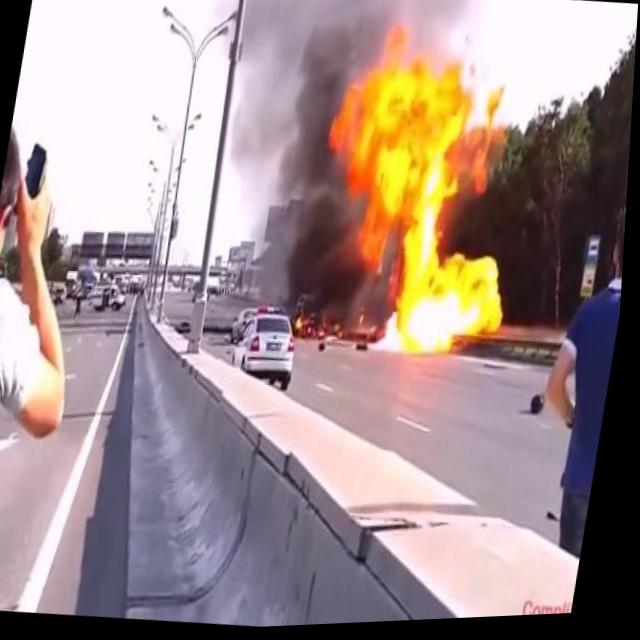fire: (295, 23, 551, 365)
